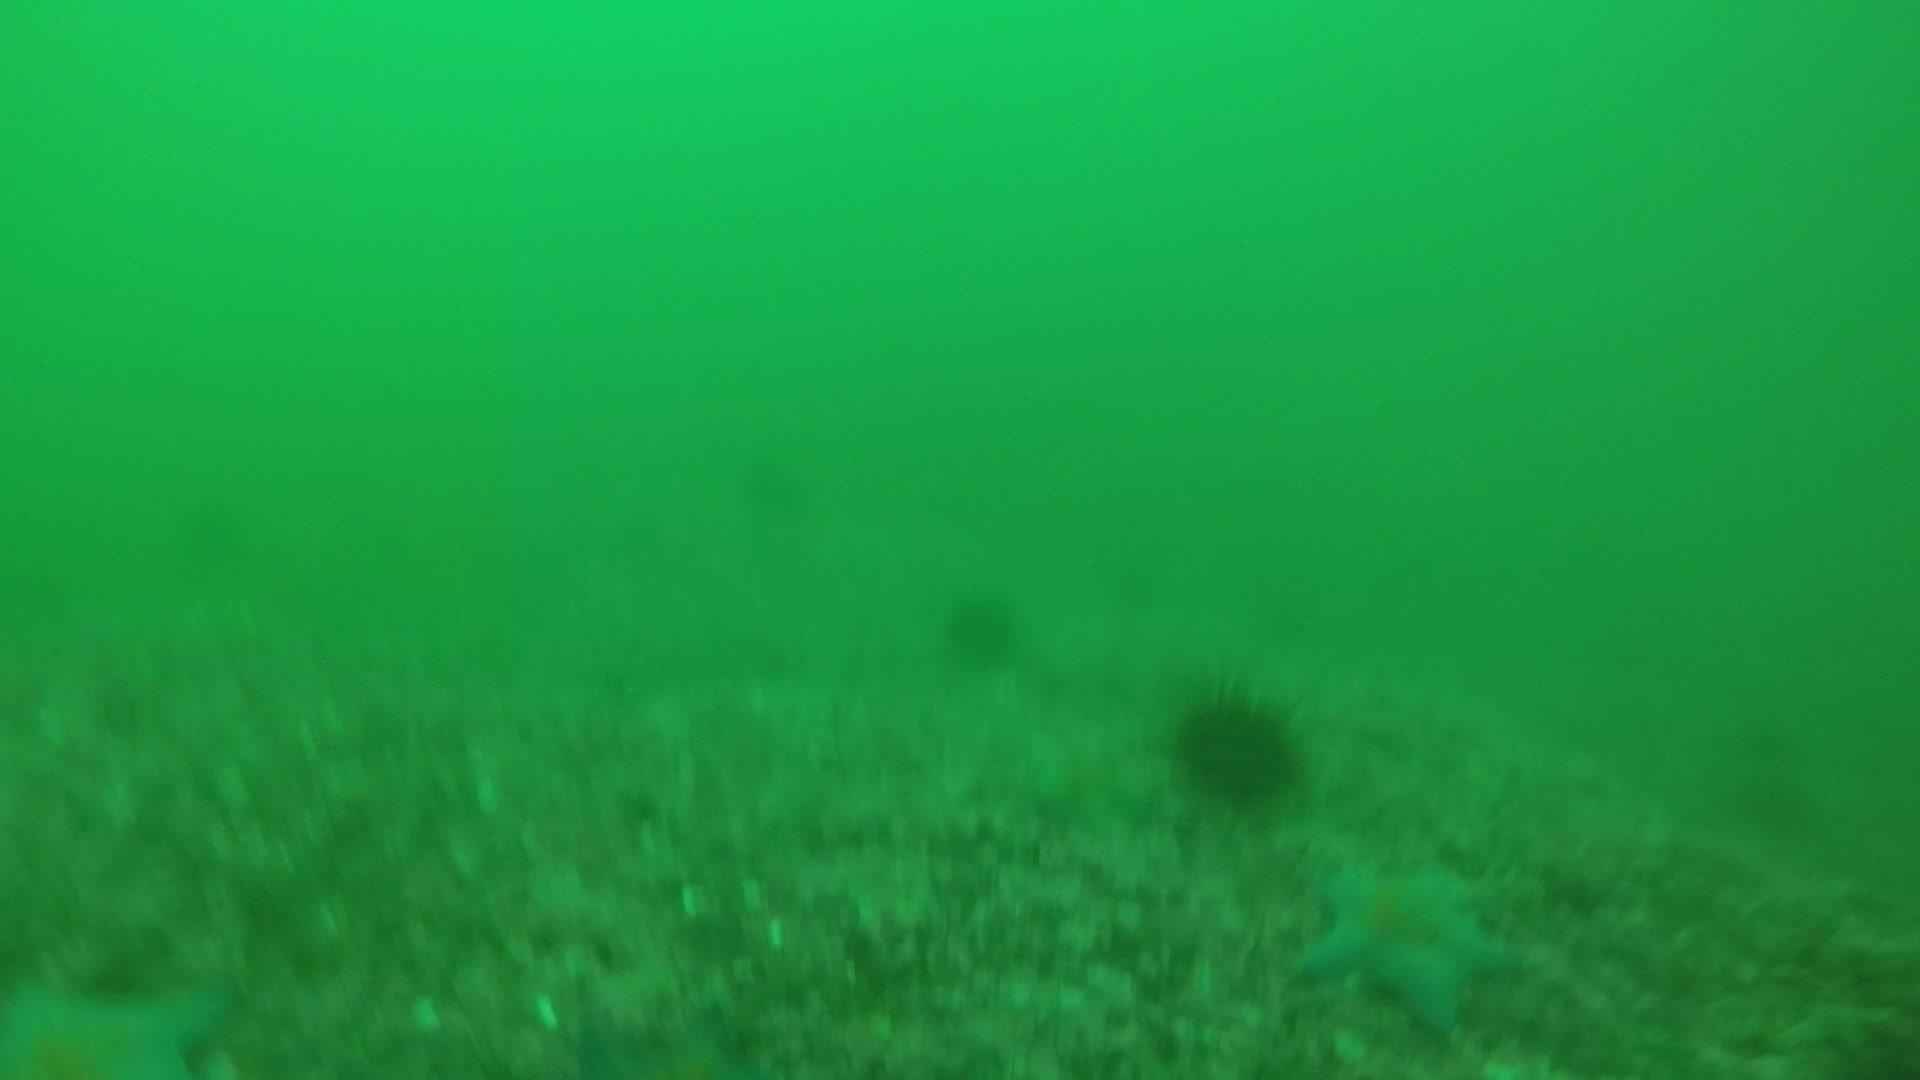echinus: (1167, 676, 1309, 811), (939, 585, 1025, 667)
starfish: (1290, 851, 1526, 1040), (1, 953, 239, 1076), (1022, 719, 1160, 832)
